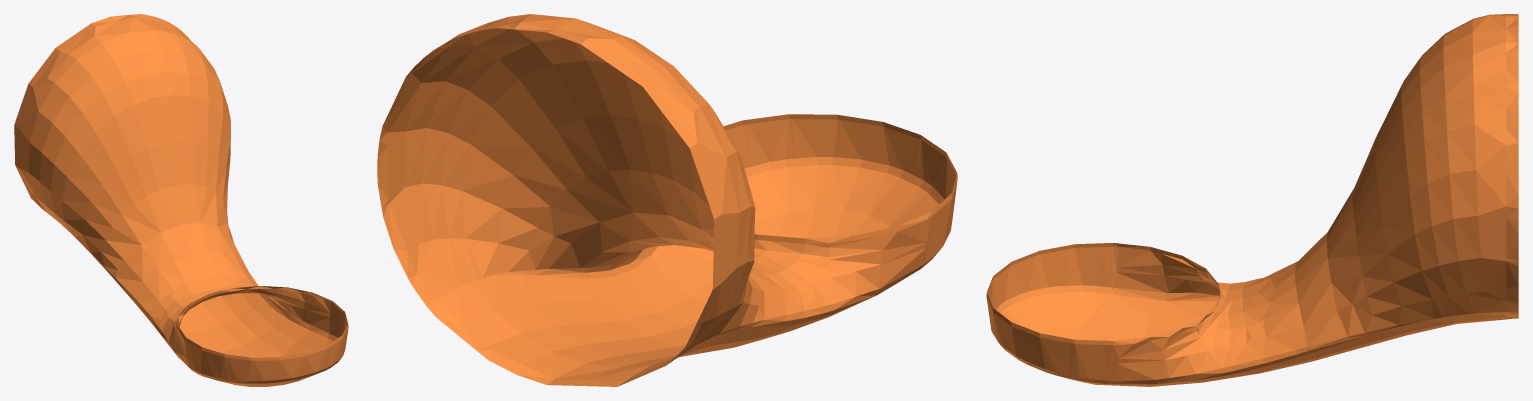
The model's file is kuka_URDF_link_6_vis_1.dae.
3 views of the same model, side by side, from view 1: azimuth 30°, elevation 25°; view 2: azimuth 150°, elevation 25°; view 3: azimuth 270°, elevation 25° (orthographic). The views are drawn at different scales.
Parts seen in each view (by area): view 1: Node_0000020FCC58CF90; view 2: Node_0000020FCC58CF90; view 3: Node_0000020FCC58CF90.
Part boxes in pixels (x1,y1,x2,y2): Node_0000020FCC58CF90: [14, 14, 348, 386]; Node_0000020FCC58CF90: [377, 14, 957, 386]; Node_0000020FCC58CF90: [986, 14, 1518, 386].
Size of the model in its own units: 0.1349 by 0.1669 by 0.234.
